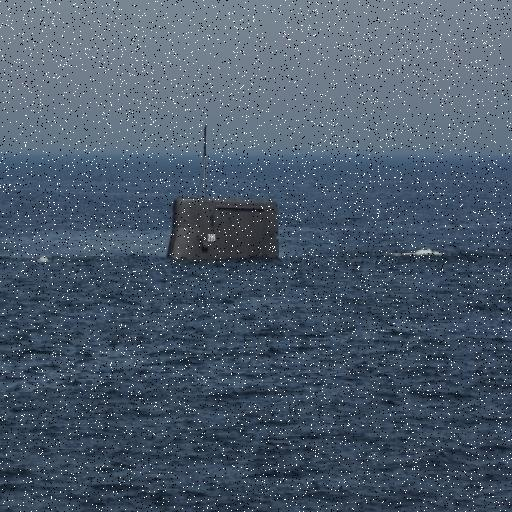submarine: (142, 125, 285, 251)
